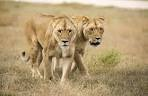lion: (22, 12, 77, 85), (78, 17, 110, 86)
